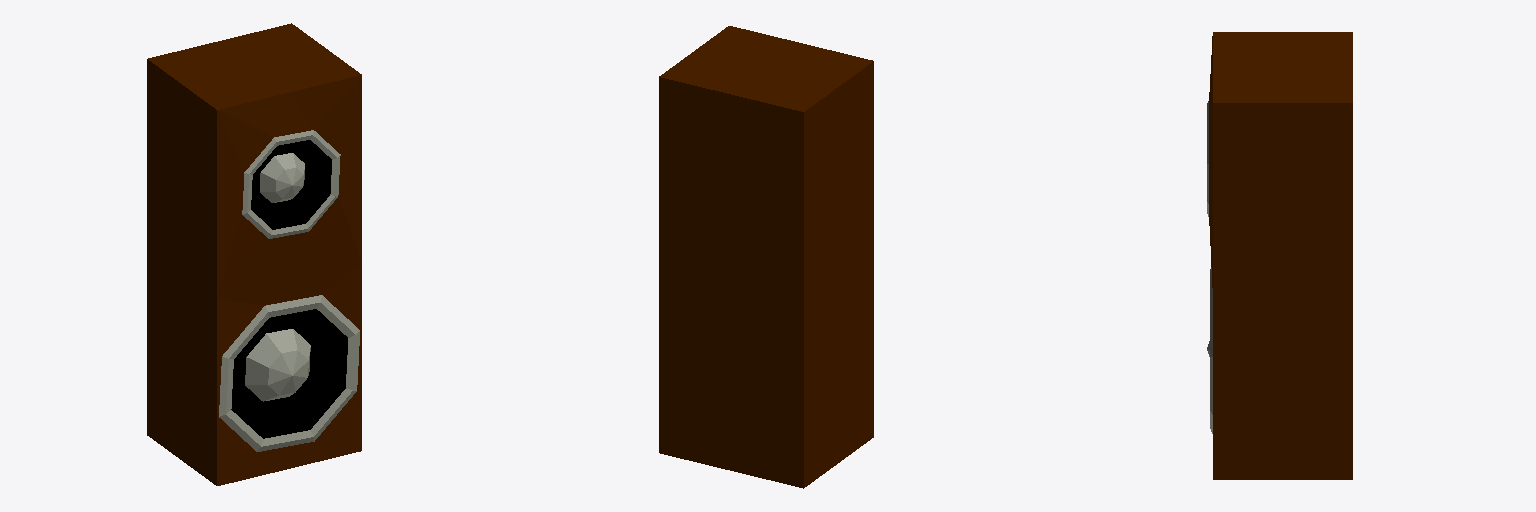
Rendered from speaker3.obj.
The picture shows the model from 3 angles: view 1: azimuth 30°, elevation 25°; view 2: azimuth 150°, elevation 25°; view 3: azimuth 270°, elevation 25°; orthographic projection.
Visible parts, largest first — view 1: Speaker3_Cube.564; view 2: Speaker3_Cube.564; view 3: Speaker3_Cube.564.
Part boxes in pixels (x1,y1,x2,y2): Speaker3_Cube.564: (147,23,361,485); Speaker3_Cube.564: (659,26,873,488); Speaker3_Cube.564: (1207,32,1352,479).
Bounding box in the file's own units: 3.95 × 9.79 × 3.45.